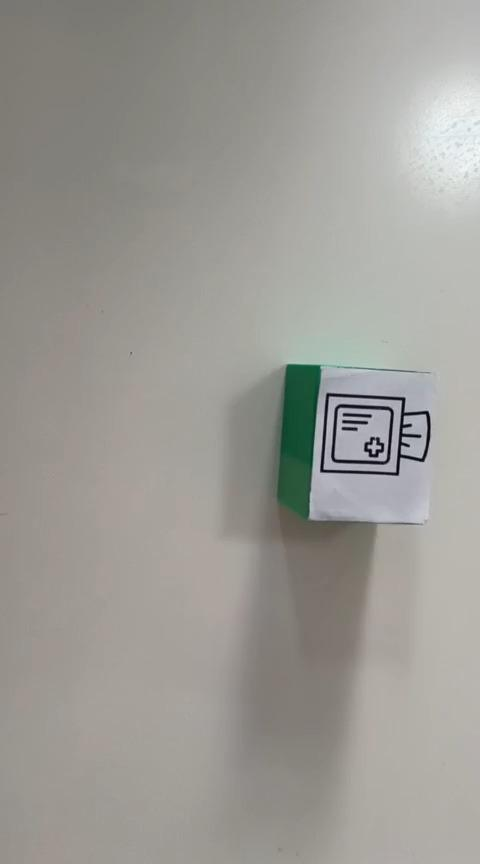Gauze: (275, 362, 437, 525)
